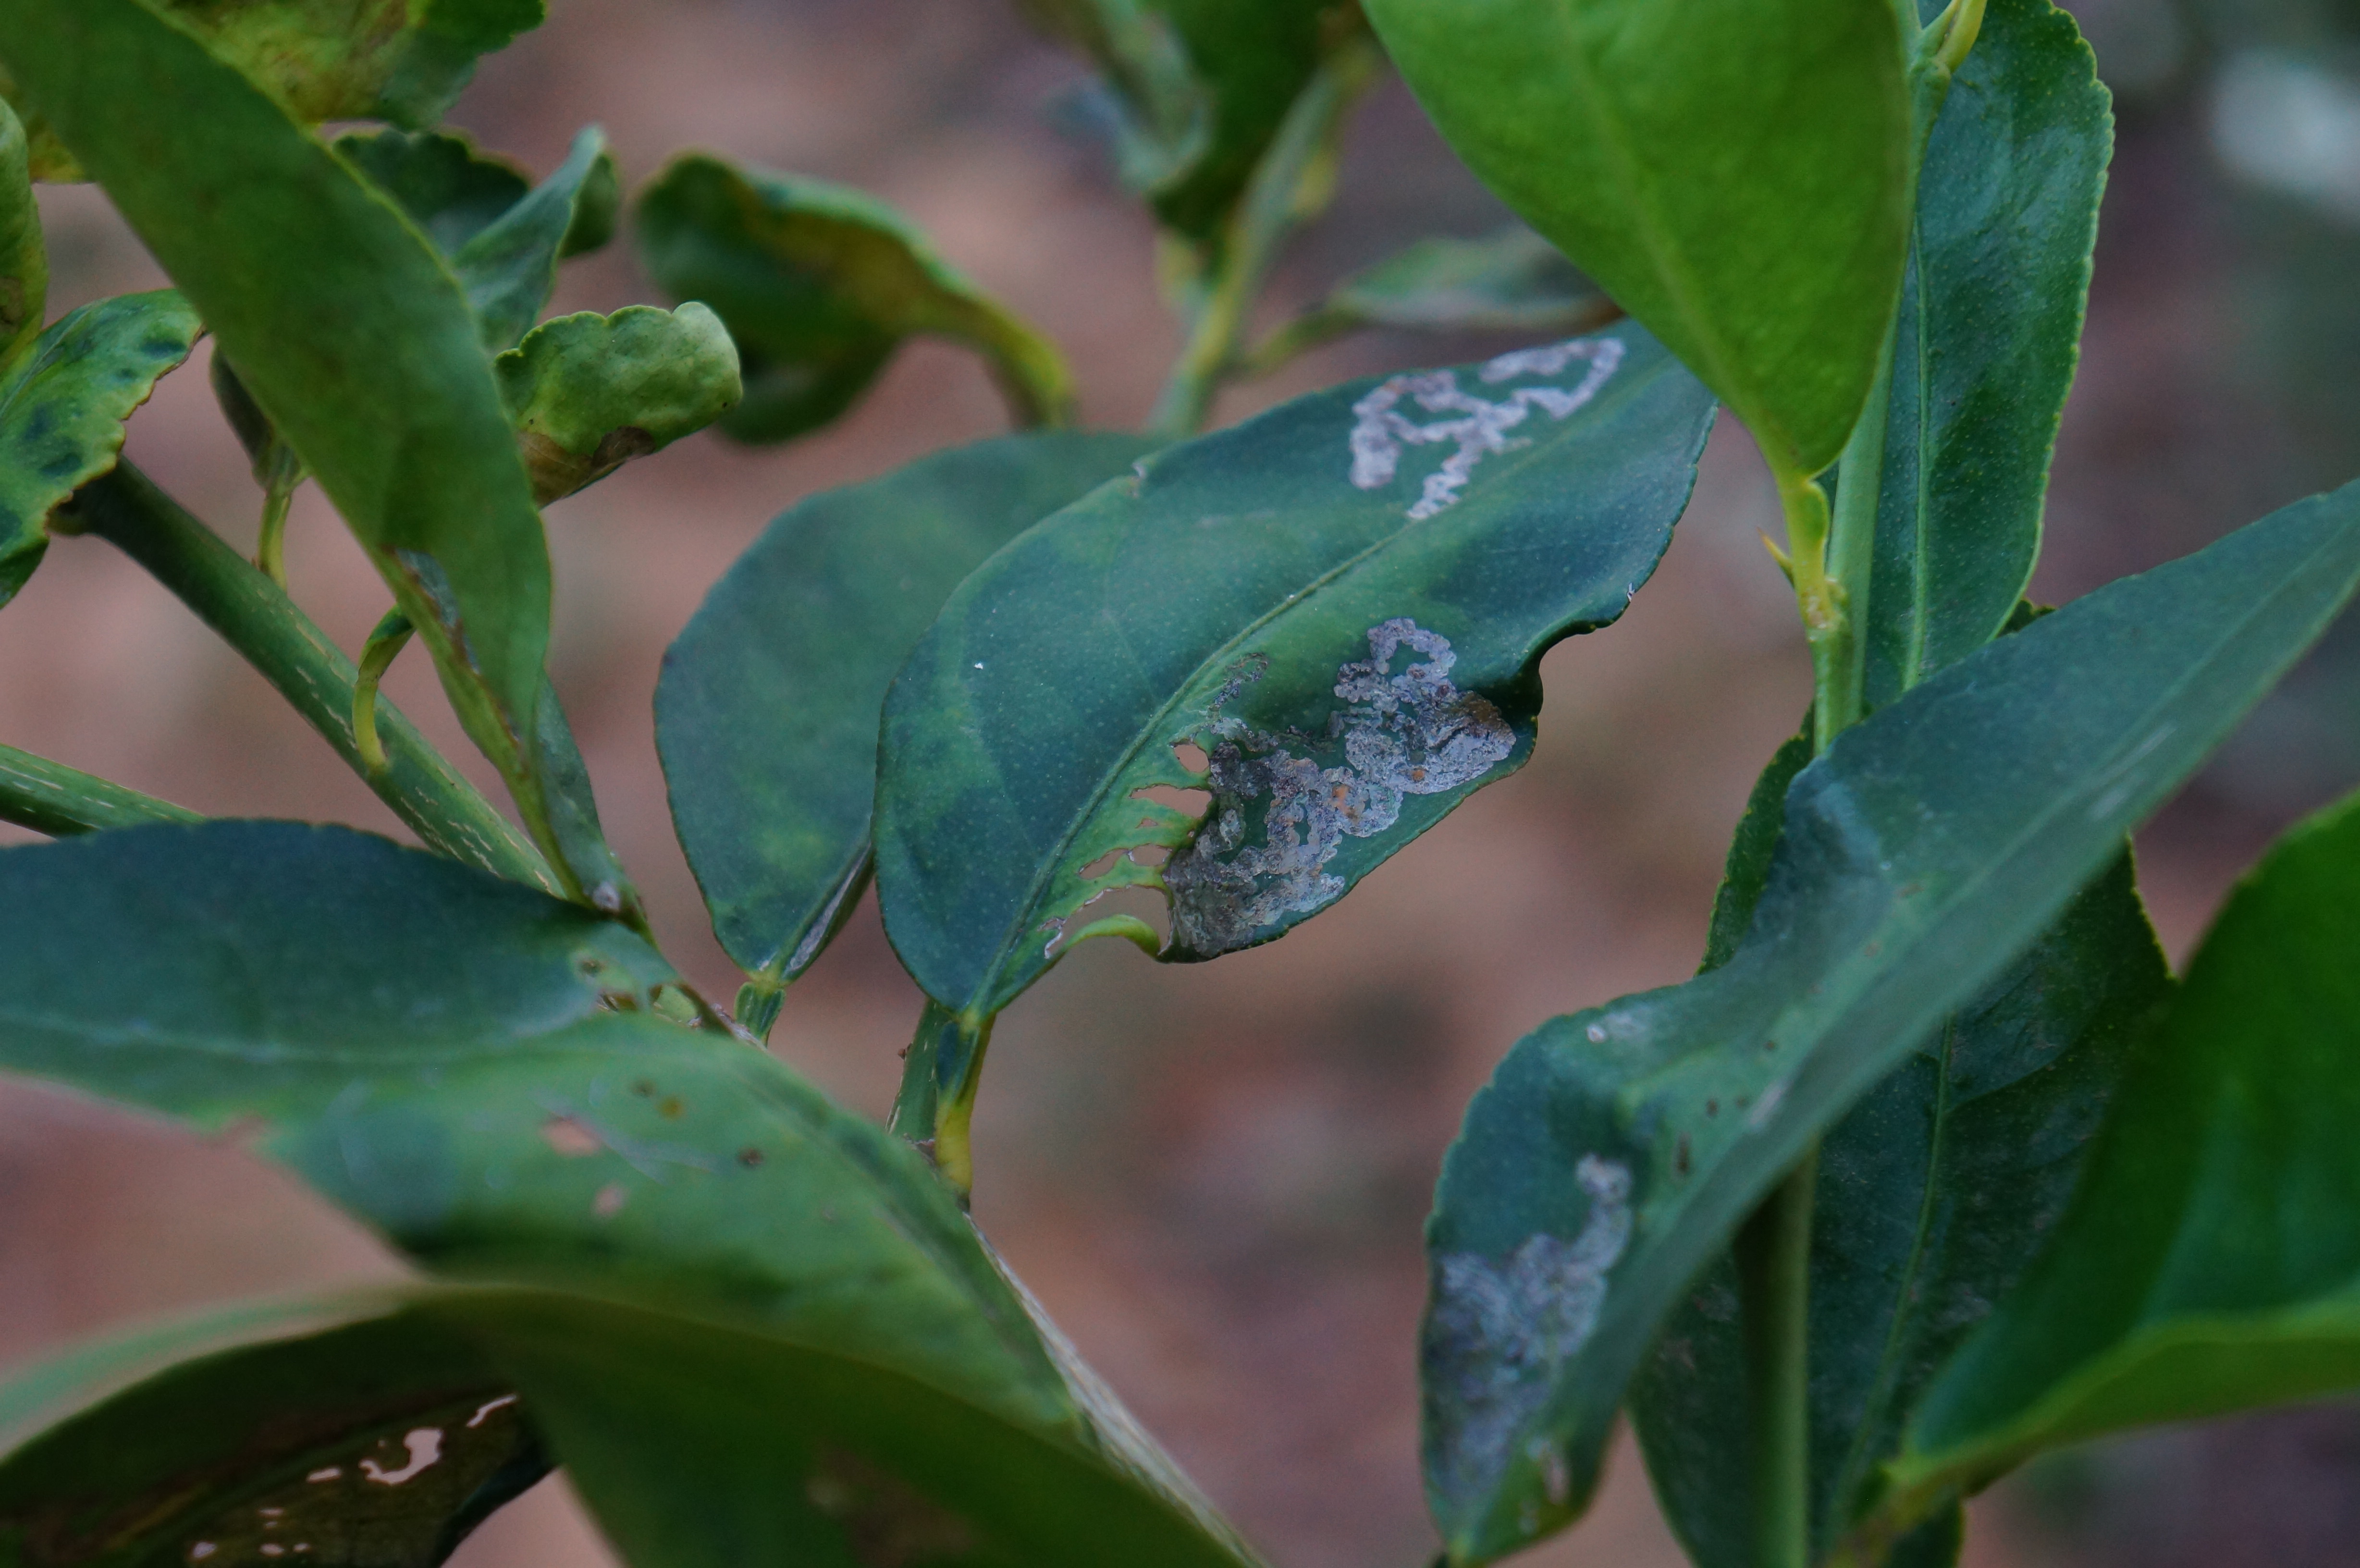damage: (1130, 598, 1552, 990), (1324, 325, 1655, 525)
